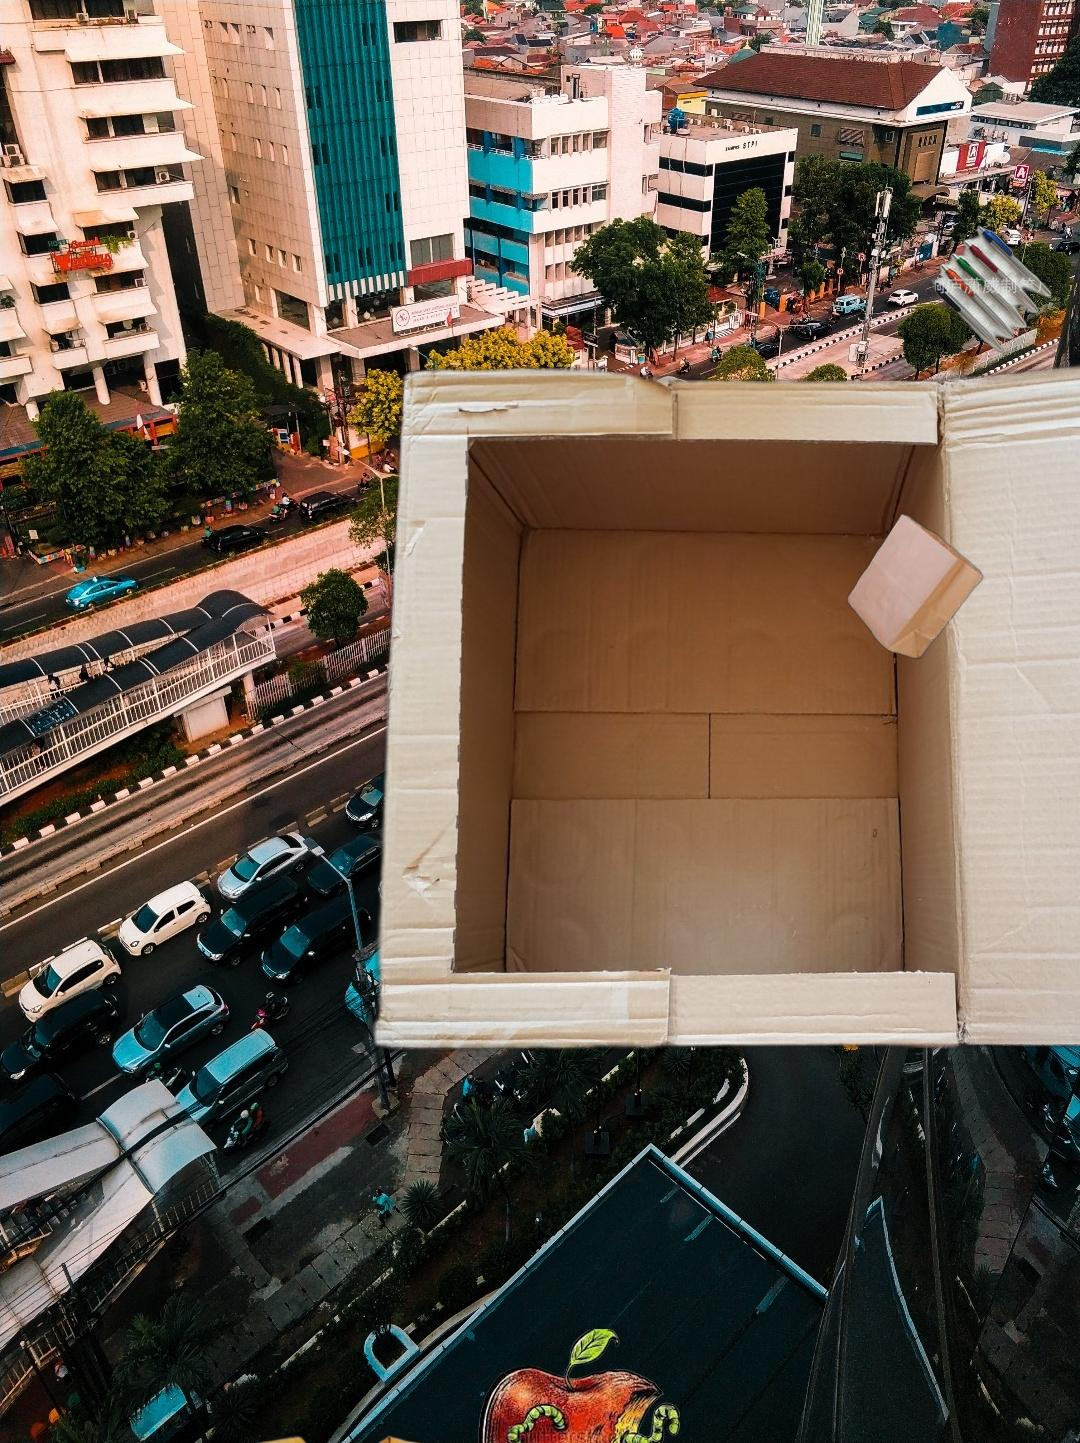biological: (455, 1330, 680, 1443)
clothes: (137, 1431, 547, 1443)
paper-bag: (844, 510, 987, 661)
penholder: (922, 223, 1066, 356)
shoes: (1071, 1092, 1080, 1284)
trashbox-cardboard: (364, 341, 1080, 1060)
